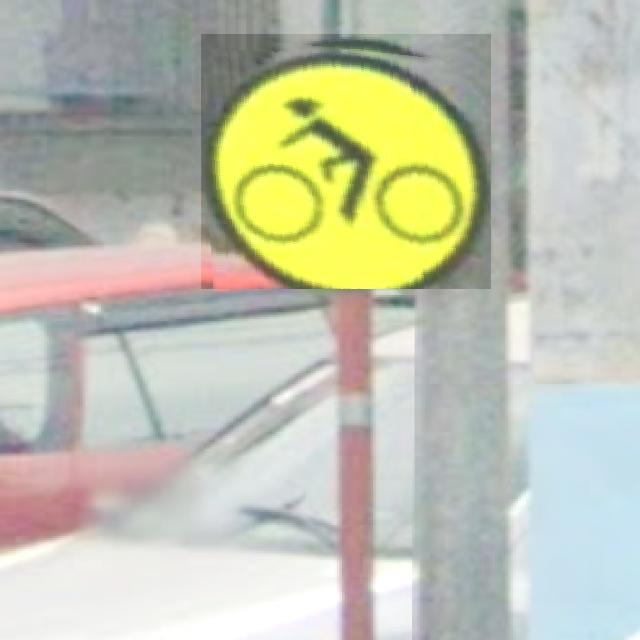bike lane: (201, 34, 491, 289)
